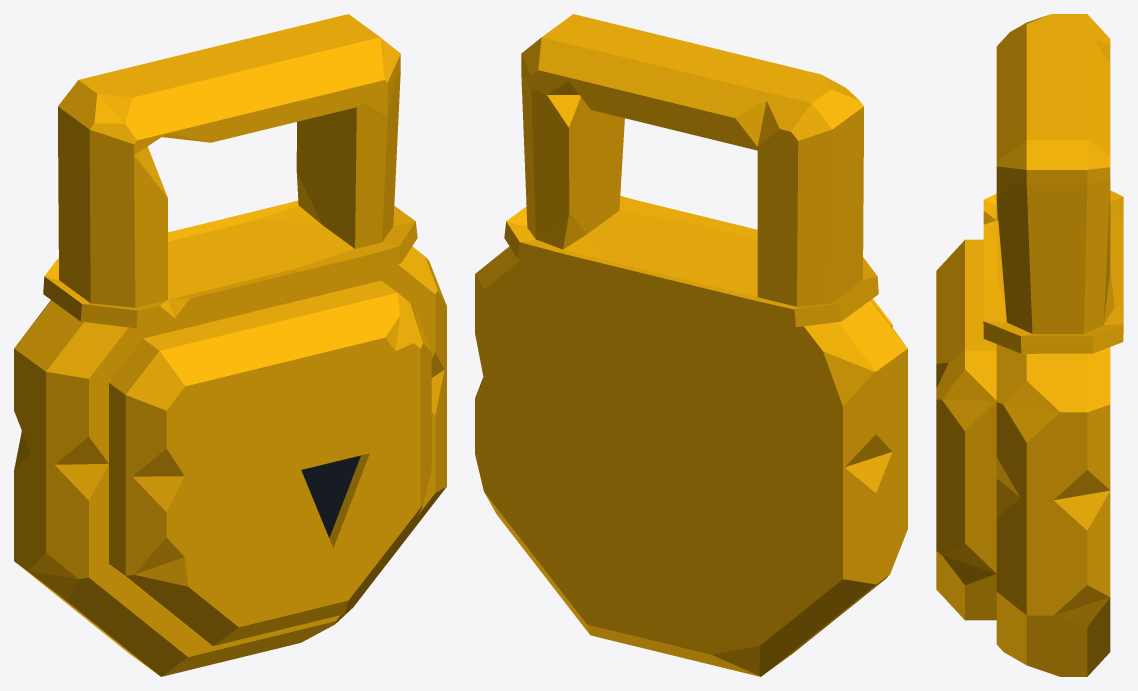
File: test_lock.glb
3 views of the same model, side by side, from view 1: azimuth 30°, elevation 25°; view 2: azimuth 150°, elevation 25°; view 3: azimuth 270°, elevation 25° (orthographic). The views are drawn at different scales.
Parts seen in each view (by area): view 1: Circle.019; view 2: Circle.019; view 3: Circle.019.
Part boxes in pixels (bbox=[...]): Circle.019: bbox=[14, 14, 446, 676]; Circle.019: bbox=[475, 14, 907, 676]; Circle.019: bbox=[936, 14, 1123, 676].
Size of the model in its own units: 2 by 2.79 by 0.8475.
1 material, 1 textured.
